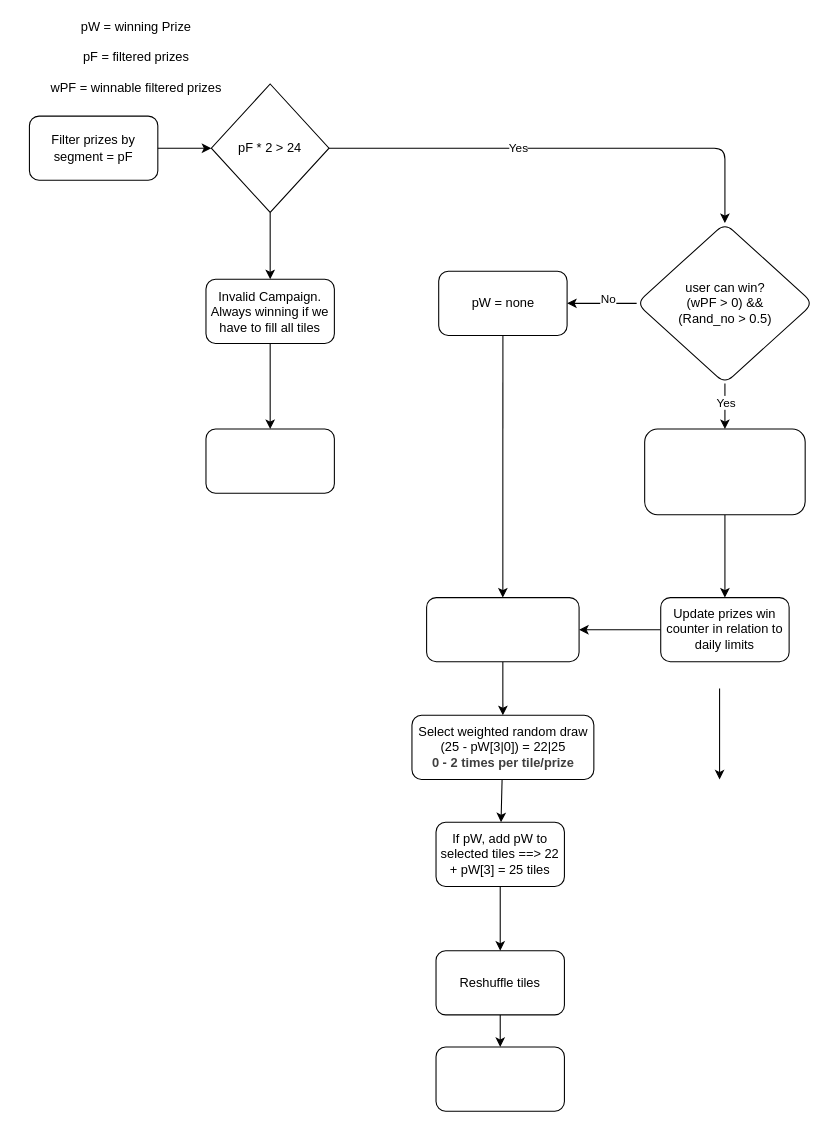
This 831x1130 diagram has some shape labels left out. The centre of each missing label's shape, as x and y in pixels:
"append prizes tiles to game" goes at (x=499, y=1078).
"Make a prize set to randomly draw from, exclude pW if set" goes at (x=502, y=629).
"Or we can choreograph an outcome" goes at (x=269, y=460).
"pW = Select a winning prize from wPF if any" goes at (x=724, y=471).
